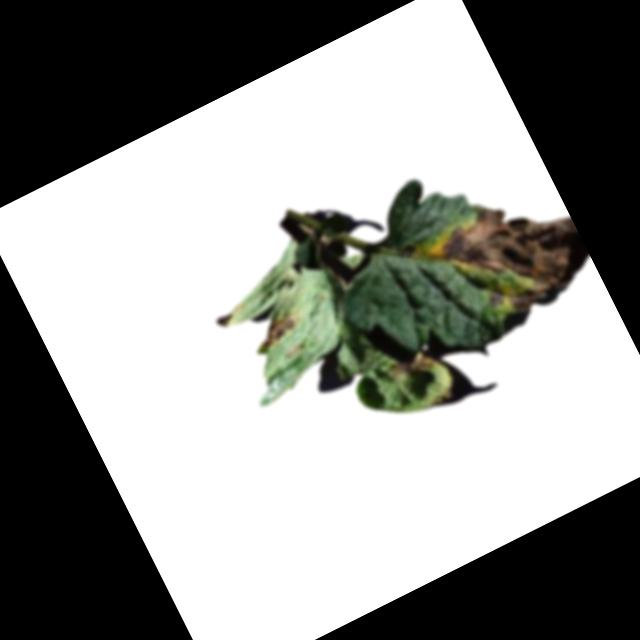Early_blight: (418, 172, 597, 337), (256, 311, 308, 351), (387, 348, 437, 386), (280, 341, 308, 364), (427, 386, 454, 407)
